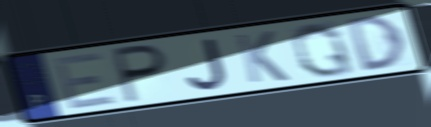D: (343, 13, 408, 74)
E: (50, 49, 120, 112)
J: (185, 36, 231, 92)
K: (232, 29, 292, 86)
P: (110, 42, 170, 106)
Q: (288, 20, 358, 79)
